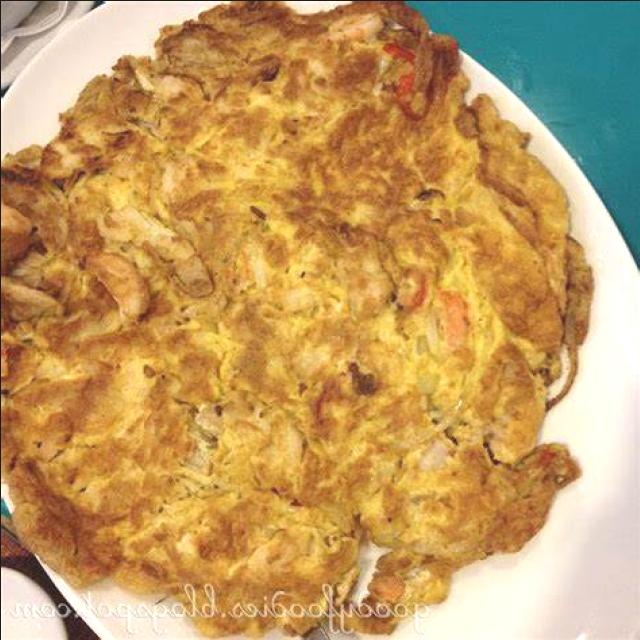telur dadar: (0, 0, 632, 640)
